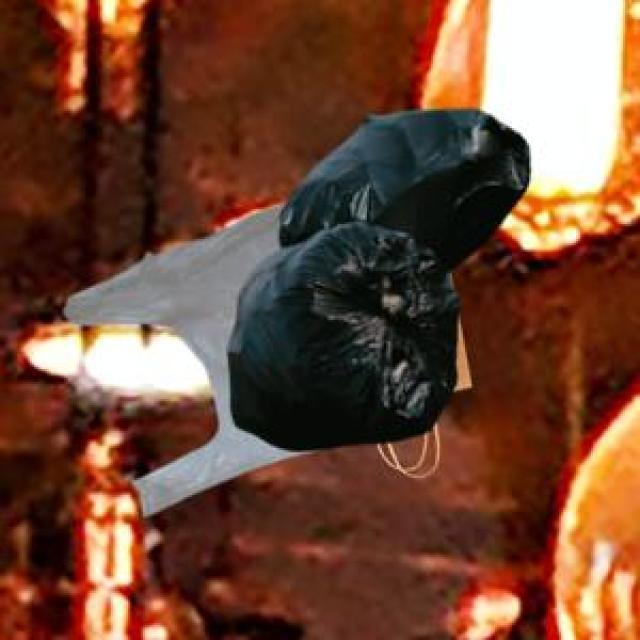miscellaneous trash: (224, 105, 525, 446)
paper: (450, 316, 467, 386)
